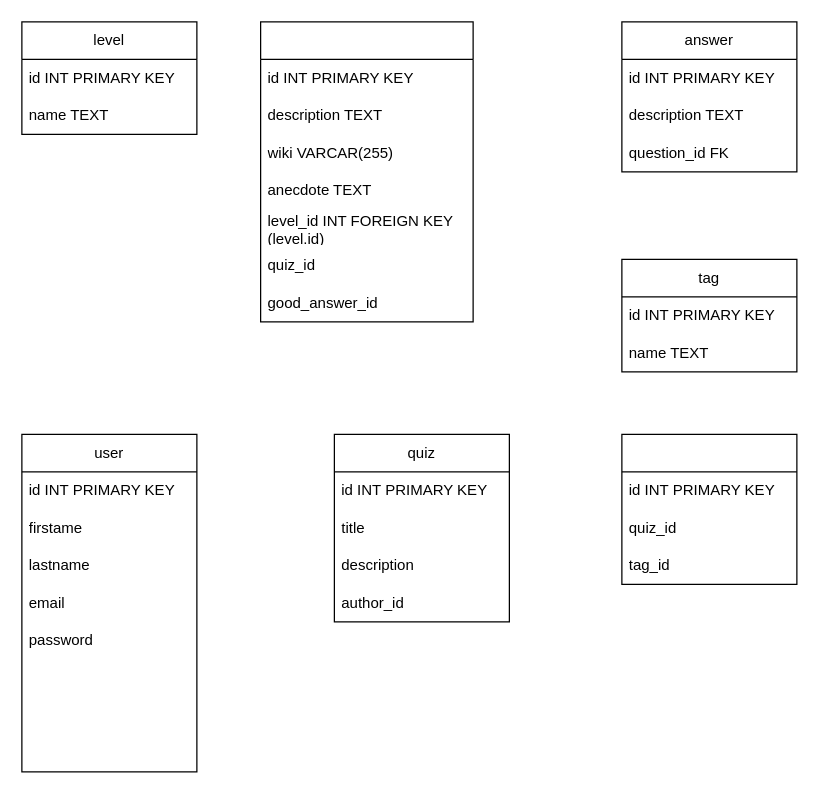
This 819x794 diagram has some shape labels left out. The shapes that lost their labels are listed below. From the top down, each one's box as (x1, y1, x2, y2) in pixels, then its label:
(259, 21, 473, 322): question
(621, 433, 797, 584): quiz_has_tag
